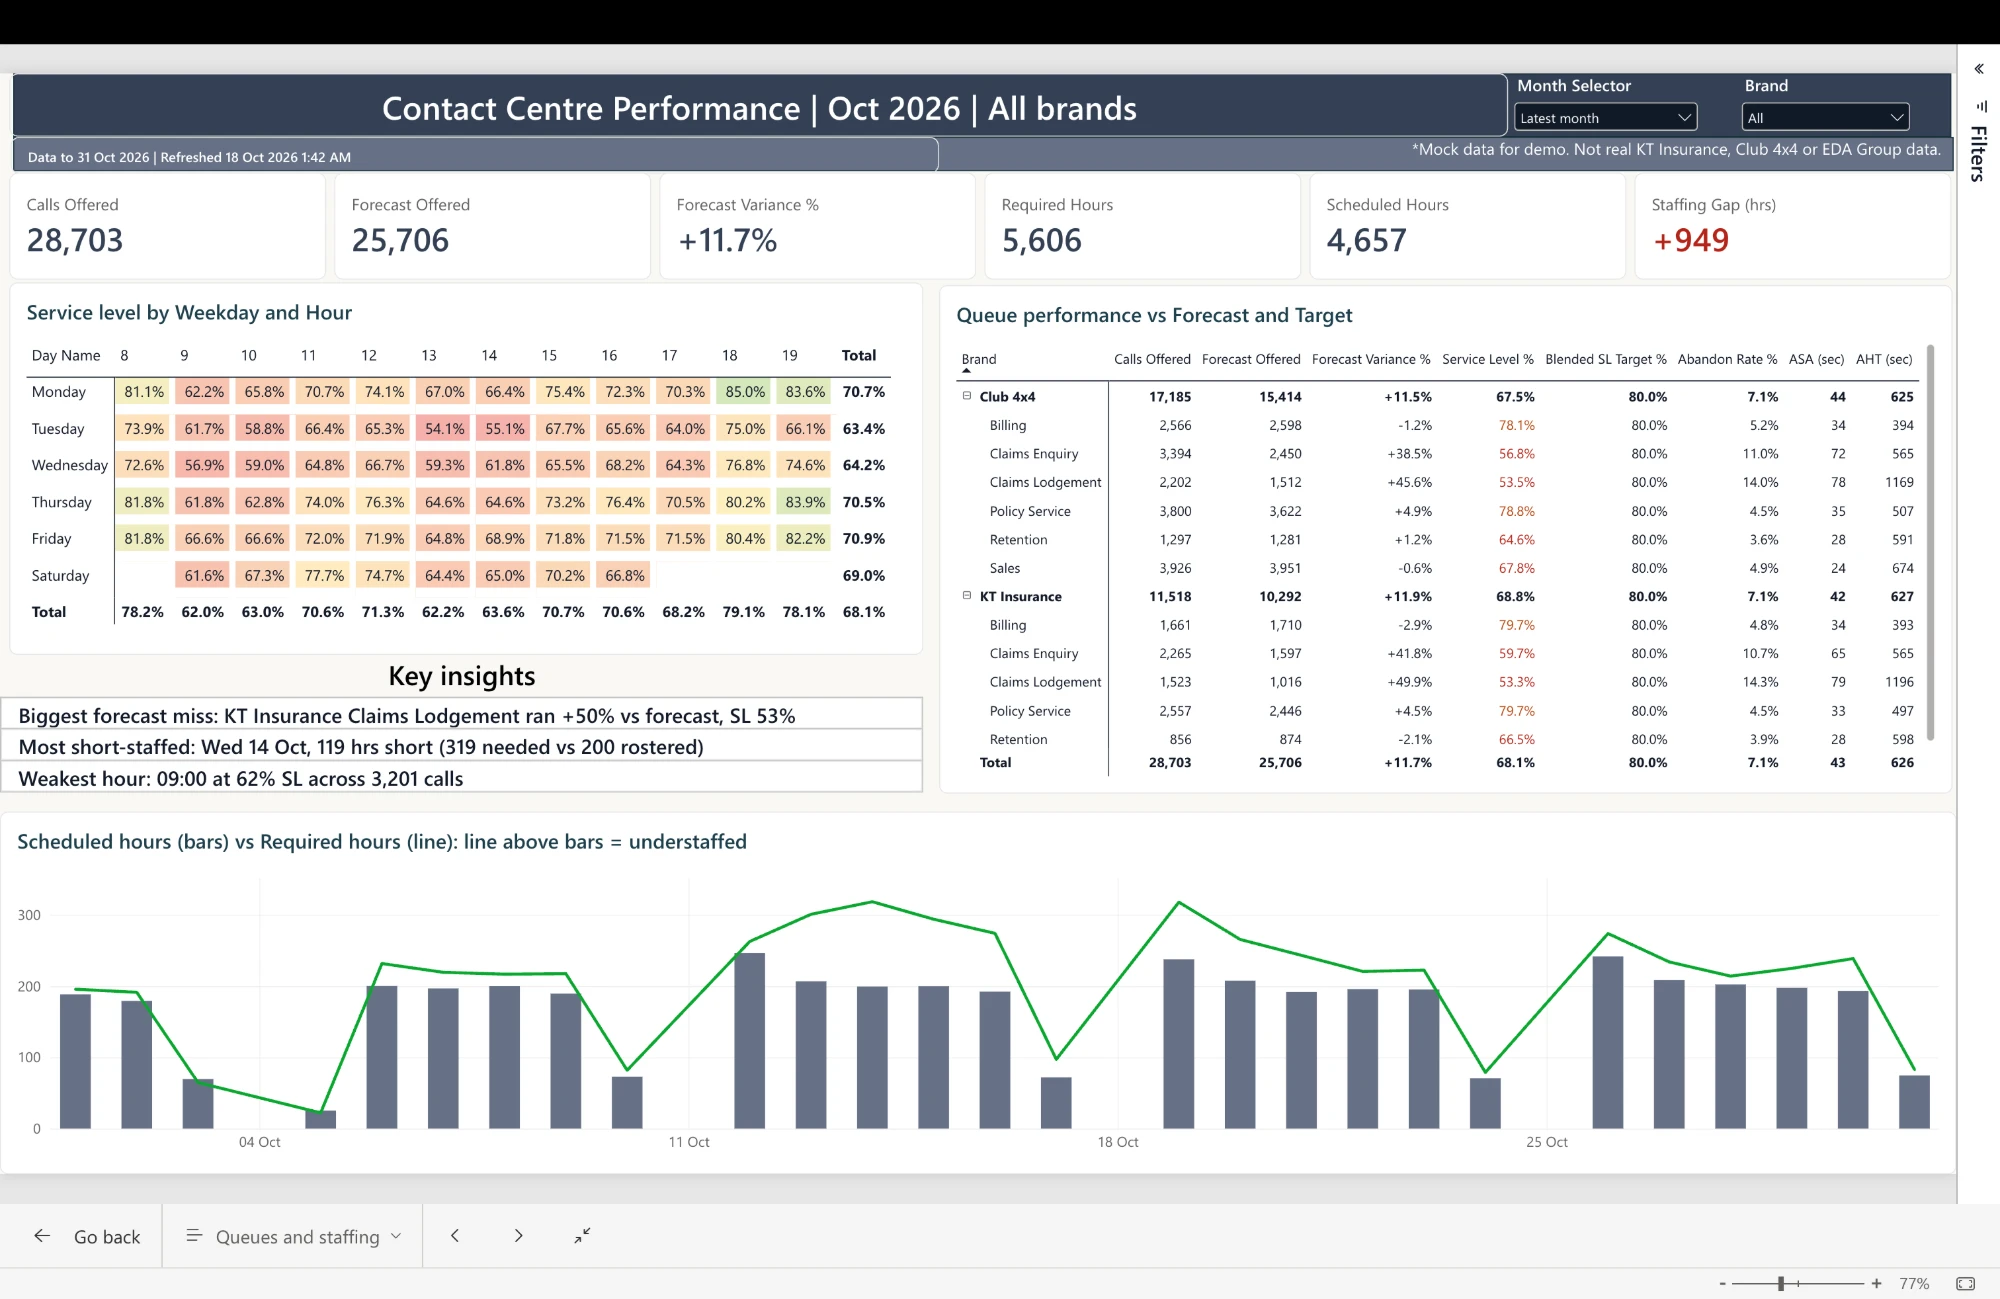

What the dashboard file says about the page in this screenshot:
{"tool":"powerbi","page":{"name":"Queues and staffing","canvas":[1920,1080],"ordinal":1},"visuals":[{"type":"shape","title":"Accent Bg","box":[13.4,62.5,1904.4,33.5],"z":0},{"type":"shape","title":"Header Bg","box":[13.4,0,1902.1,62.5],"z":1000},{"type":"slicer","fields":{"Values":["Date.Month Selector"]},"box":[1481,0,190,62.7],"z":2000},{"type":"slicer","fields":{"Values":["Queue.Brand"]},"box":[1704.2,0,175.2,62.7],"z":3000},{"type":"cardVisual","fields":{"Data":["Calls.Report Title"]},"box":[9.2,0,1471.8,62.7],"z":4000},{"type":"cardVisual","fields":{"Data":["Calls.Data As At"]},"box":[10.1,62.3,911.1,36.2],"z":5000},{"type":"pivotTable","title":"Queue performance vs Forecast and Target","fields":{"Rows":["Queue.Brand","Queue.Queue"],"Values":["Calls.Calls Offered","Forecast.Forecast Offered","Forecast.Forecast Variance %","Calls.Service Level %","Calls.Blended SL Target %","Calls.Abandon Rate %","Calls.ASA (sec)","Calls.AHT (sec)"]},"box":[921.9,207.6,994.3,499],"z":6000},{"type":"pivotTable","title":"Service level by Weekday and Hour","fields":{"Columns":["Calls.hour_of_day"],"Rows":["Date.Day Name"],"Values":["Calls.Service Level %"]},"box":[9.5,205.7,897.1,365.7],"z":7000},{"type":"lineClusteredColumnComboChart","title":"Scheduled hours (bars) vs Required hours (line): line above bars = understaffed","fields":{"Category":["Date.Date"],"Y":["Forecast.Scheduled Hours"],"Y2":["Forecast.Required Hours"]},"box":[0,723.8,1920,356.2],"z":8000},{"type":"cardVisual","fields":{"Data":["Calls.Calls Offered","Forecast.Forecast Offered","Forecast.Forecast Variance %","Forecast.Required Hours","Forecast.Scheduled Hours","Forecast.Staffing Gap (hrs)"]},"box":[9.2,97.8,1907.1,105.1],"z":9000},{"type":"cardVisual","title":"Key insights","fields":{"Data":["Calls.Biggest Forecast Miss","Calls.Largest Staffing Gap Day","Calls.Weakest Hour"]},"box":[0,571.4,906.7,135.2],"z":10000},{"type":"textbox","box":[961.3,62.3,943.2,34.2],"z":10001}]}

Visuals, with their boxes on the page's 1920x1080 design canvas (x1, y1, x2, y2). These are canvas units, not pixel positions in the 2000x1299 screenshot, which may show the page scaled, cropped or inside an application window:
"Accent Bg" shape: [left=13, top=62, right=1918, bottom=96]
"Header Bg" shape: [left=13, top=0, right=1916, bottom=62]
slicer - Date.Month Selector: [left=1481, top=0, right=1671, bottom=63]
slicer - Queue.Brand: [left=1704, top=0, right=1879, bottom=63]
cardVisual - Calls.Report Title: [left=9, top=0, right=1481, bottom=63]
cardVisual - Calls.Data As At: [left=10, top=62, right=921, bottom=98]
"Queue performance vs Forecast and Target" pivotTable: [left=922, top=208, right=1916, bottom=707]
"Service level by Weekday and Hour" pivotTable: [left=10, top=206, right=907, bottom=571]
"Scheduled hours (bars) vs Required hours (line): line above bars = understaffed" lineClusteredColumnComboChart: [left=0, top=724, right=1920, bottom=1080]
cardVisual - Calls.Calls Offered x Forecast.Forecast Offered: [left=9, top=98, right=1916, bottom=203]
"Key insights" cardVisual: [left=0, top=571, right=907, bottom=707]
textbox: [left=961, top=62, right=1904, bottom=96]
